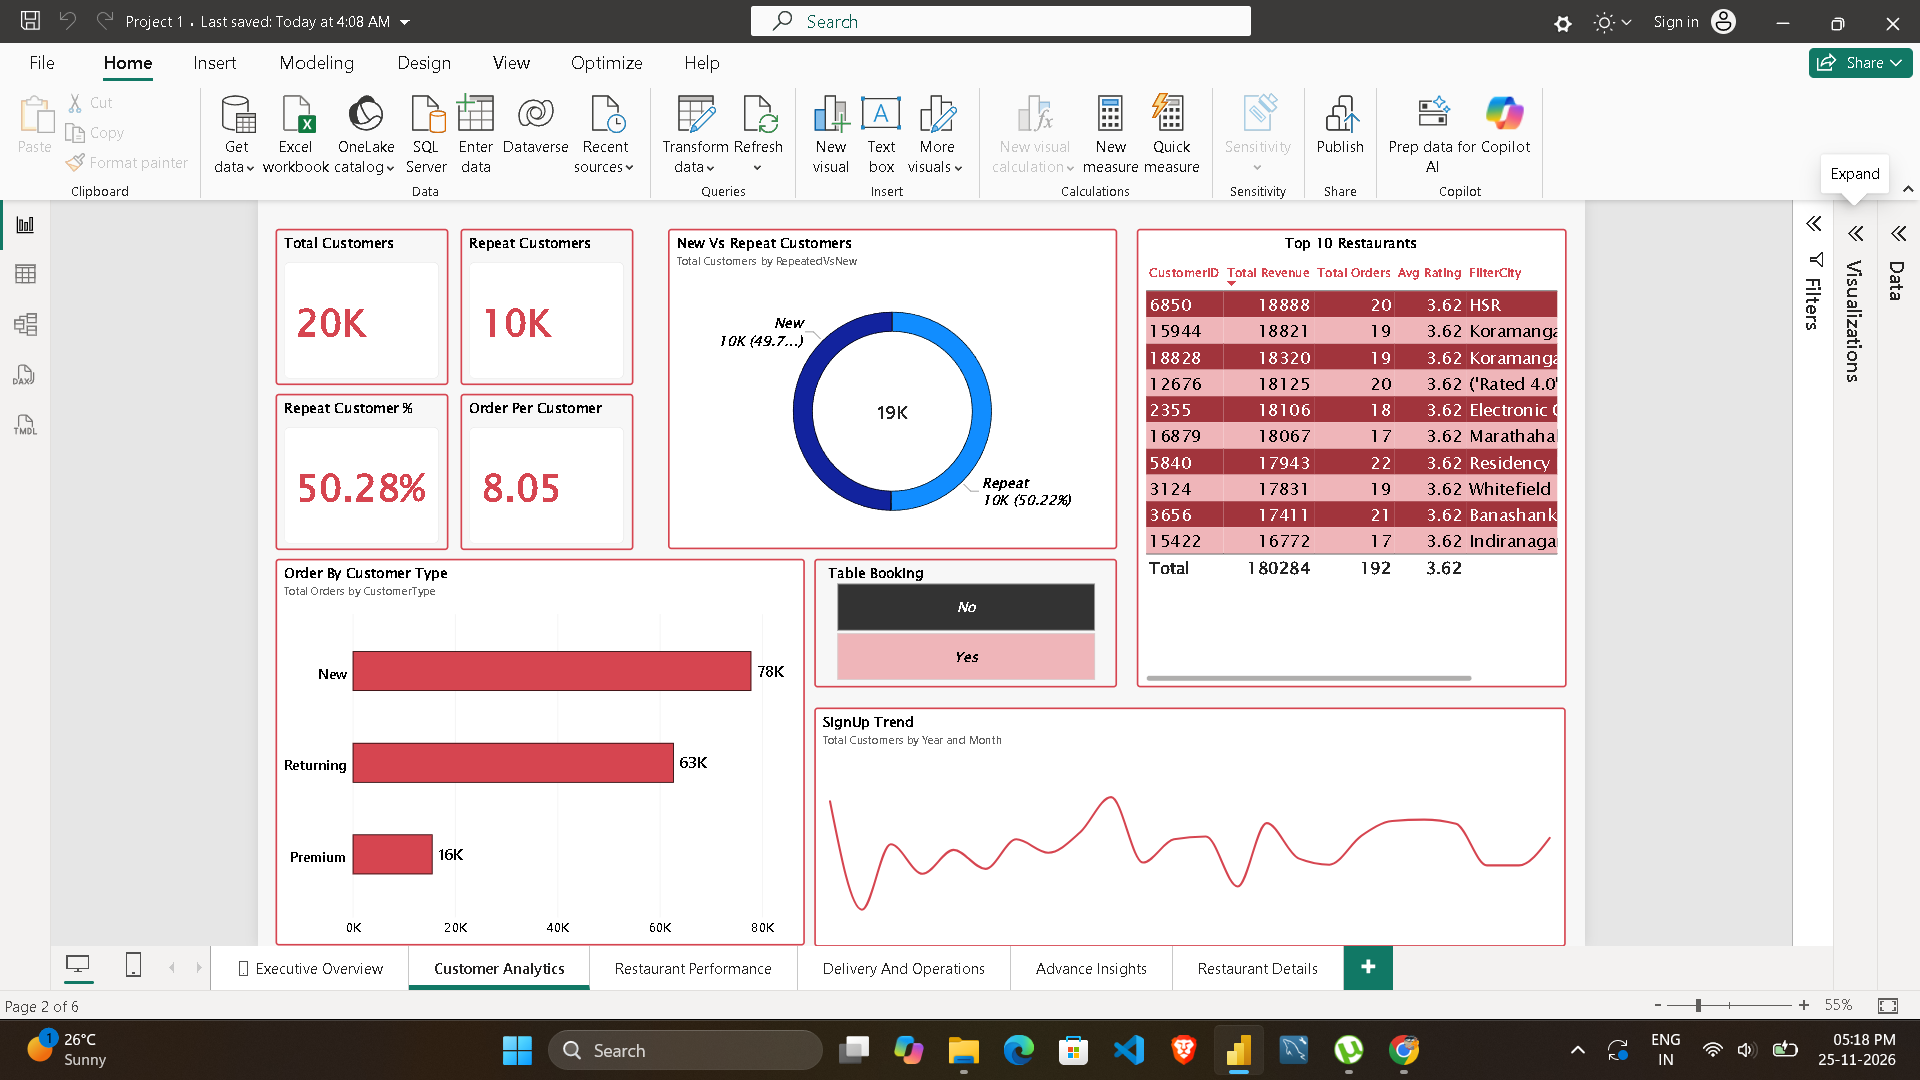

The dashboard page shown, as its layout file describes it:
{"tool":"powerbi","page":{"name":"Customer Analytics","canvas":[1920,1080],"ordinal":1},"visuals":[{"type":"cardVisual","title":"Total Customers","fields":{"Data":["Orders.Total Customers"]},"box":[26,42,250,226],"z":0},{"type":"cardVisual","title":"Repeat Customer %","fields":{"Data":["Orders.Repeat Customer %"]},"box":[26,280,250,226],"z":1000},{"type":"cardVisual","title":"Repeat Customers","fields":{"Data":["Orders.Repeat Customers"]},"box":[294,42,250,226],"z":2000},{"type":"cardVisual","title":"Order Per Customer","fields":{"Data":["Orders.Orders Per Customer"]},"box":[294,280,250,226],"z":3000},{"type":"lineChart","title":"SignUp Trend","fields":{"Category":["Customers.SignupDate.Variation.Date Hierarchy.Year","Customers.SignupDate.Variation.Date Hierarchy.Month"],"Y":["Orders.Total Customers"]},"box":[806,734,1088,346],"z":4000},{"type":"barChart","title":"Order By Customer Type","fields":{"Category":["Customers.CustomerType"],"Y":["Orders.Total Orders"]},"box":[26,520,766,560],"z":6000},{"type":"donutChart","title":"New Vs Repeat Customers","fields":{"Category":["Customers.RepeatedVsNew"],"Y":["Orders.Total Customers"]},"box":[594,42,650,464],"z":7000},{"type":"tableEx","title":"Top 10 Restaurants","fields":{"Values":["Customers.CustomerID","Orders.Total Revenue","Orders.Total Orders","Orders.Avg Rating","Customers.FilterCity"]},"box":[1272,42,622,664],"z":8000},{"type":"slicer","fields":{"Values":["Restaurants.Book_Table 2"]},"box":[806,520,438,186],"z":8001}]}

Visuals, with their boxes on the page's 1920x1080 design canvas (x1, y1, x2, y2). These are canvas units, not pixel positions in the 1920x1080 screenshot, which may show the page scaled, cropped or inside an application window:
"Total Customers" cardVisual: box(26, 42, 276, 268)
"Repeat Customer %" cardVisual: box(26, 280, 276, 506)
"Repeat Customers" cardVisual: box(294, 42, 544, 268)
"Order Per Customer" cardVisual: box(294, 280, 544, 506)
"SignUp Trend" lineChart: box(806, 734, 1894, 1080)
"Order By Customer Type" barChart: box(26, 520, 792, 1080)
"New Vs Repeat Customers" donutChart: box(594, 42, 1244, 506)
"Top 10 Restaurants" tableEx: box(1272, 42, 1894, 706)
slicer - Restaurants.Book_Table 2: box(806, 520, 1244, 706)
